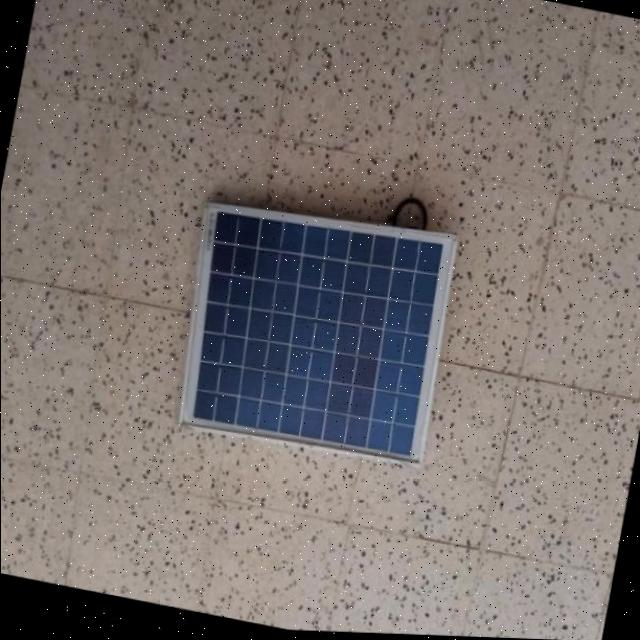Normal Solar Panel: (166, 188, 464, 476)
